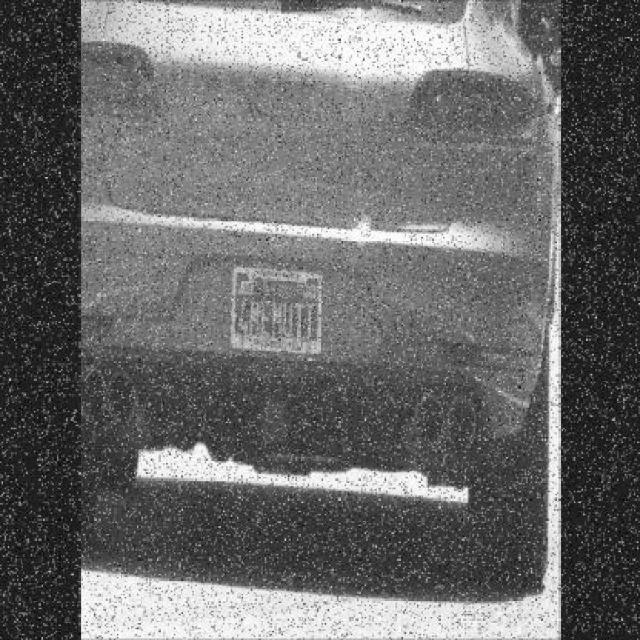licenseplate: (224, 254, 333, 368)
